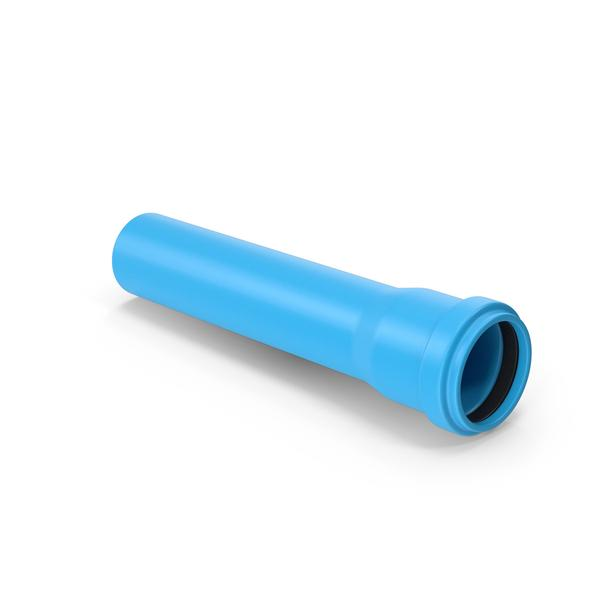PVC: (73, 161, 600, 500)
